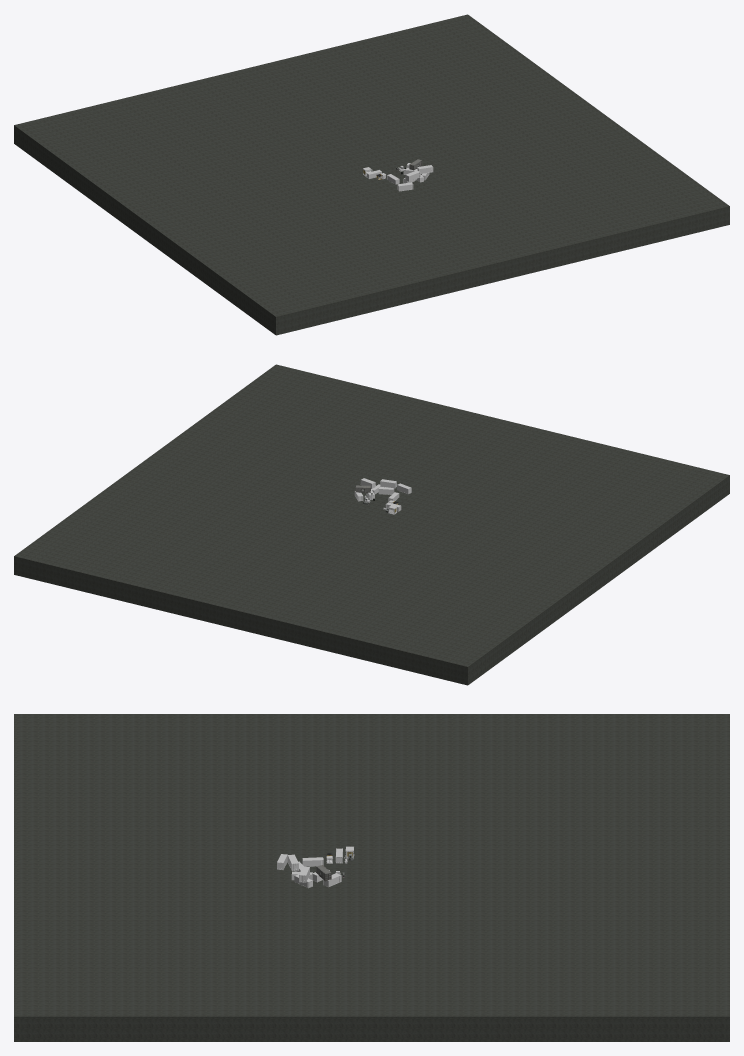
3 views of the same model, one above another, from view 1: azimuth 30°, elevation 25°; view 2: azimuth 150°, elevation 25°; view 3: azimuth 270°, elevation 25° (orthographic). The views are drawn at different scales.
Parts seen in each view (by area): view 1: map_1; view 2: map_1; view 3: map_1.
Boxes of the visible parts, <box> form: map_1: <box>14,14,729,335</box>; map_1: <box>14,364,729,685</box>; map_1: <box>14,714,729,1041</box>.
Bounding box in the file's own units: 256 × 15.7 × 256.
